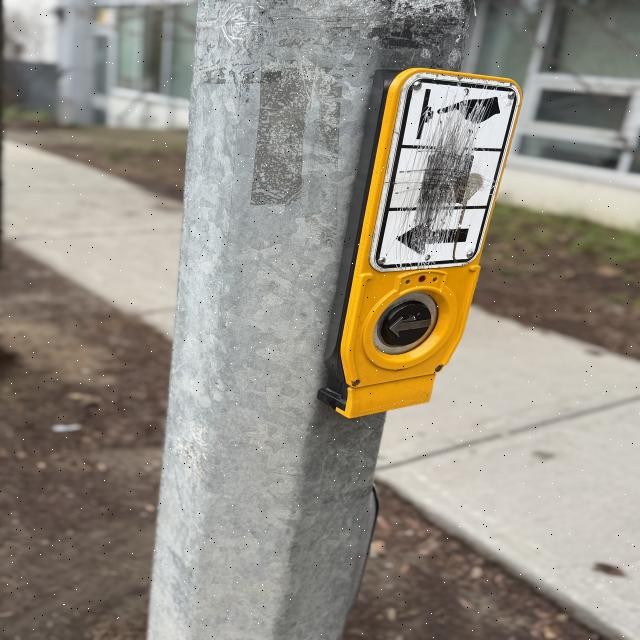Electrical Pole: (141, 4, 531, 639)
